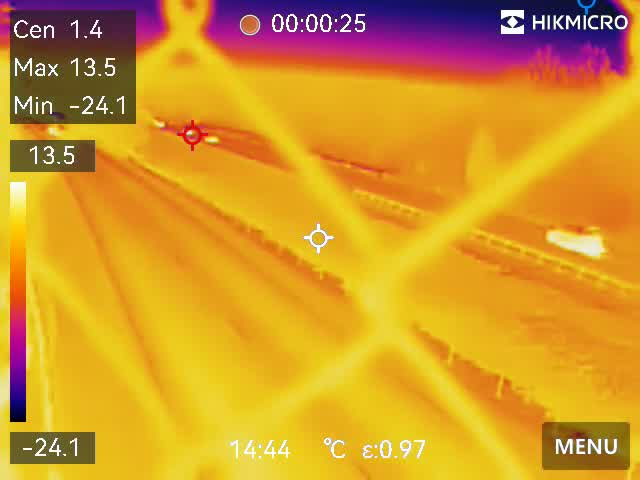vehicle: (544, 222, 613, 255), (178, 127, 197, 145), (202, 132, 221, 147)
